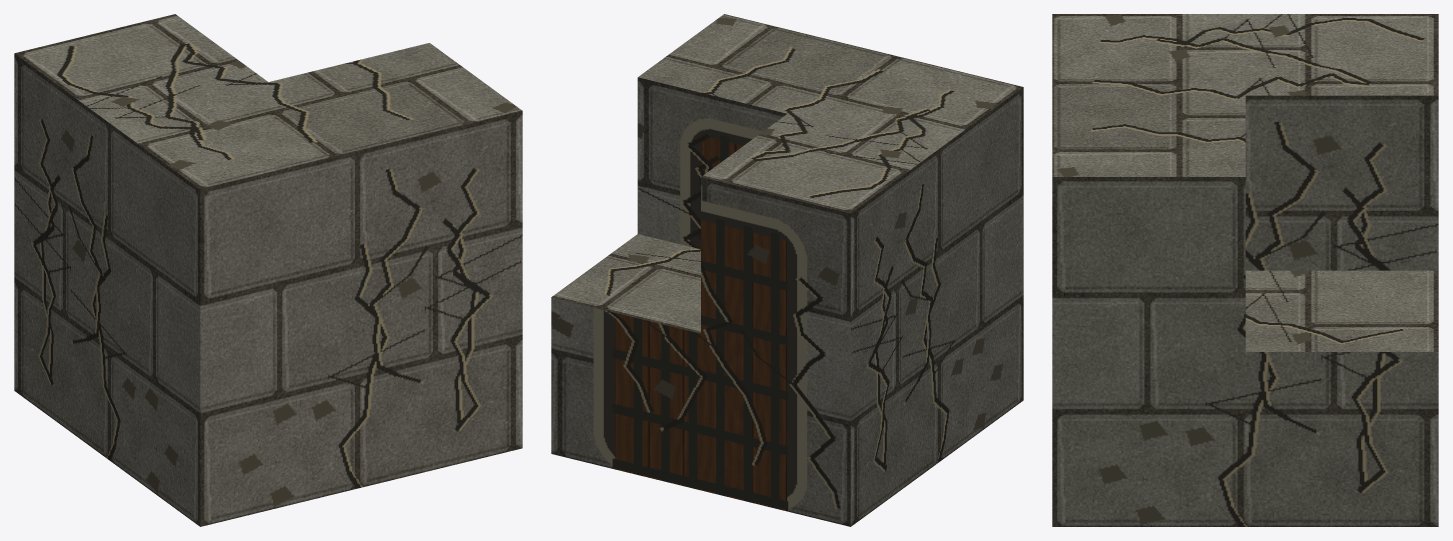
The model's file is gate_z2.glb.
3 views of the same model, side by side, from view 1: azimuth 30°, elevation 25°; view 2: azimuth 150°, elevation 25°; view 3: azimuth 270°, elevation 25° (orthographic). The views are drawn at different scales.
Visible parts, largest first — view 1: gate_z2; view 2: gate_z2; view 3: gate_z2.
Part boxes in pixels (x1,y1,x2,y2): gate_z2: (14, 14, 522, 526); gate_z2: (551, 14, 1023, 526); gate_z2: (1052, 14, 1438, 526).
Size of the model in its own units: 1 by 1 by 1.
Materials: 1 (1 with a texture image).
